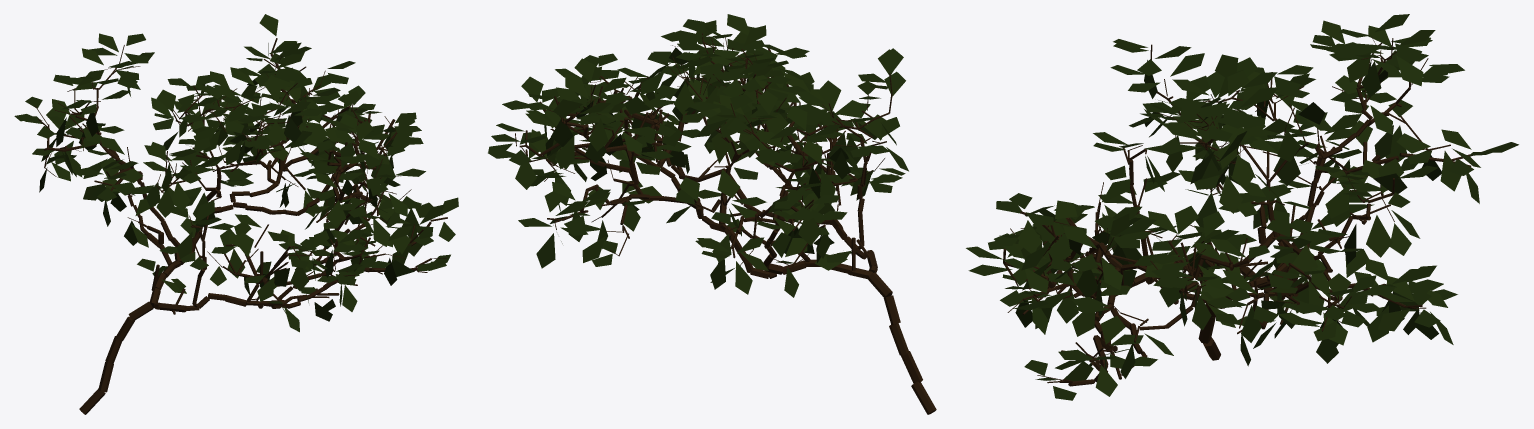
File: tree_319.obj
3 renders of one model, left to right at view 1: azimuth 30°, elevation 25°; view 2: azimuth 150°, elevation 25°; view 3: azimuth 270°, elevation 25°, orthographic. The views are drawn at different scales.
Visible parts, largest first — view 1: Leaves, TrunkAndBranches; view 2: Leaves, TrunkAndBranches; view 3: Leaves, TrunkAndBranches.
Part boxes in pixels (x1,y1,x2,y2): Leaves: (14,14,458,332); TrunkAndBranches: (35,38,447,414); Leaves: (488,14,908,297); TrunkAndBranches: (515,33,936,414); Leaves: (966,14,1518,400); TrunkAndBranches: (1003,36,1472,386).
Bounding box in the file's own units: 3.67 × 2.93 × 3.72.
